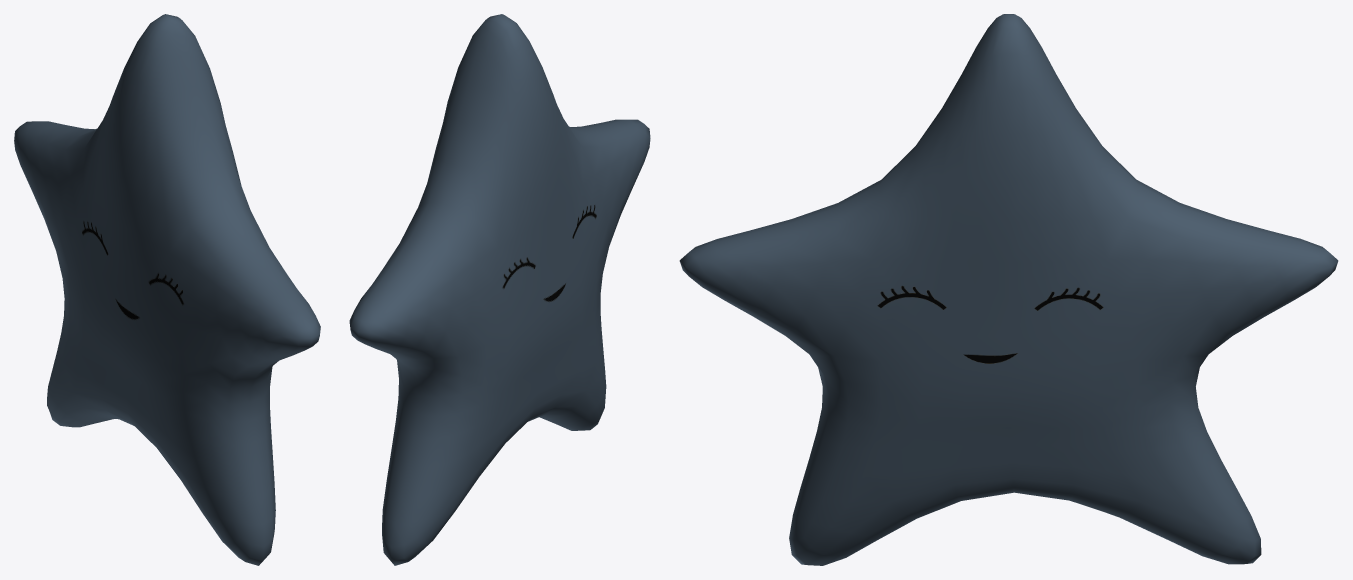
File: Star 2.fbx
3 views of the same model, side by side, from view 1: azimuth 30°, elevation 25°; view 2: azimuth 150°, elevation 25°; view 3: azimuth 270°, elevation 25° (orthographic). The views are drawn at different scales.
Parts seen in each view (by area): view 1: Star2; view 2: Star2; view 3: Star2.
Part boxes in pixels (x1,y1,x2,y2): Star2: (14,14,320,565); Star2: (349,14,650,565); Star2: (679,14,1338,565).
Size of the model in its own units: 41.21 by 195 by 212.
1 material, 1 textured.
